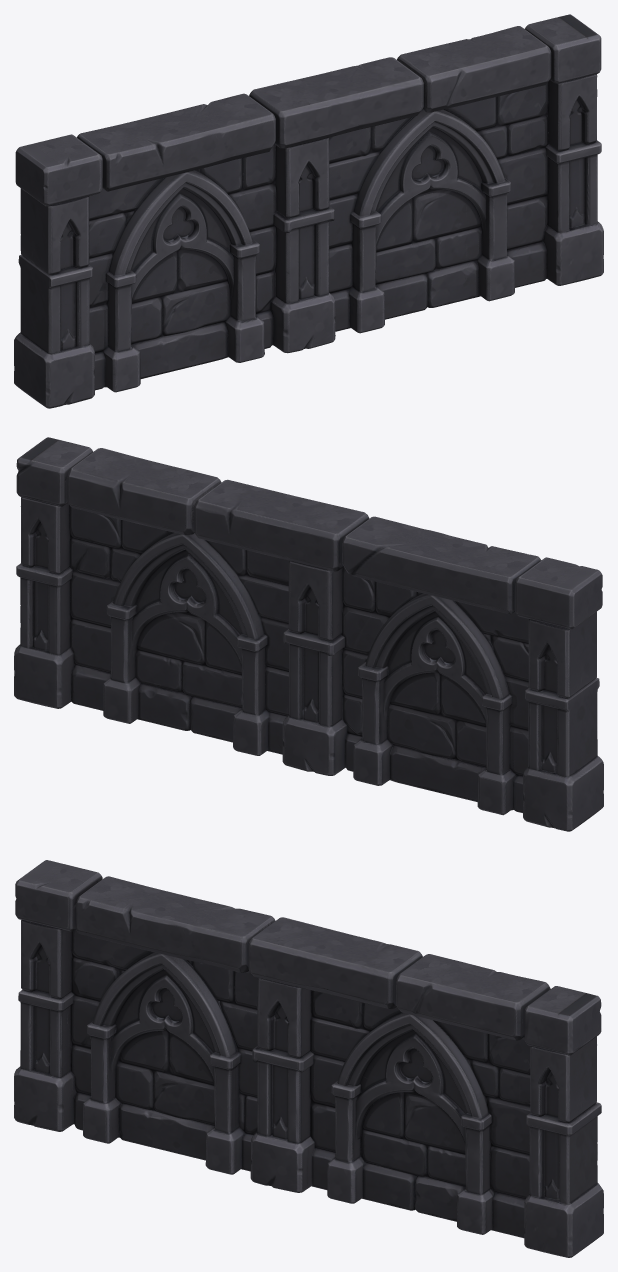
The model's file is ENV_Wall_Straight_Up.fbx.
The picture shows the model from 3 angles, top to bottom: view 1: azimuth 30°, elevation 25°; view 2: azimuth 150°, elevation 25°; view 3: azimuth 330°, elevation 25°; orthographic projection.
Visible parts, largest first — view 1: Mesh_0; view 2: Mesh_0; view 3: Mesh_0.
Part boxes in pixels (<box>): Mesh_0: <box>14,14,603,408</box>; Mesh_0: <box>14,437,603,831</box>; Mesh_0: <box>14,860,603,1257</box>.
Bounding box in the file's own units: 190 × 78.57 × 22.47.
1 material, 1 textured.
